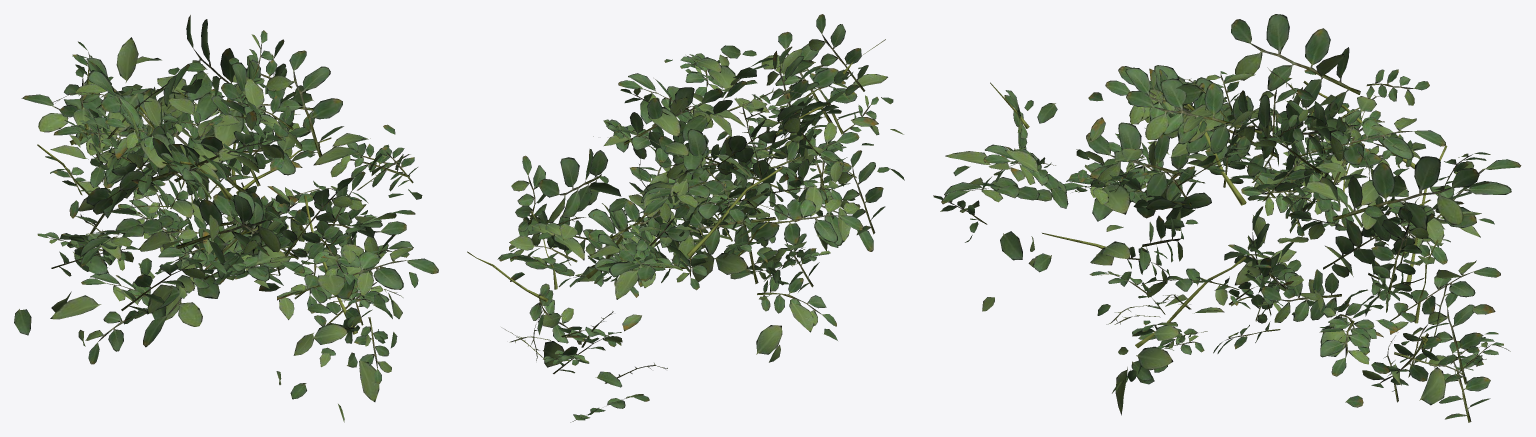
File: arbolpeq_L1_hojas.glb
The picture shows the model from 3 angles, left to right: view 1: azimuth 30°, elevation 25°; view 2: azimuth 150°, elevation 25°; view 3: azimuth 270°, elevation 25°; orthographic projection. The views are drawn at different scales.
Visible parts, largest first — view 1: tree_small_02_LOD0; view 2: tree_small_02_LOD0; view 3: tree_small_02_LOD0.
Part boxes in pixels (bbox=[...]): tree_small_02_LOD0: bbox=[14, 15, 438, 422]; tree_small_02_LOD0: bbox=[467, 14, 904, 422]; tree_small_02_LOD0: bbox=[933, 14, 1521, 422].
Size of the model in its own units: 3.14 by 2.74 by 4.44.
1 material, 1 textured.
